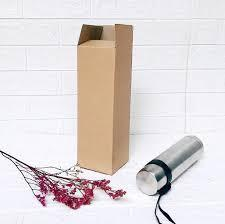box: (77, 24, 132, 176)
